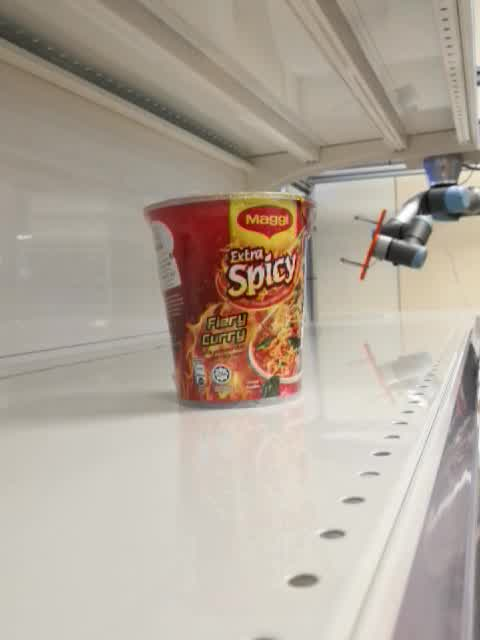maggi: (140, 190, 316, 410)
